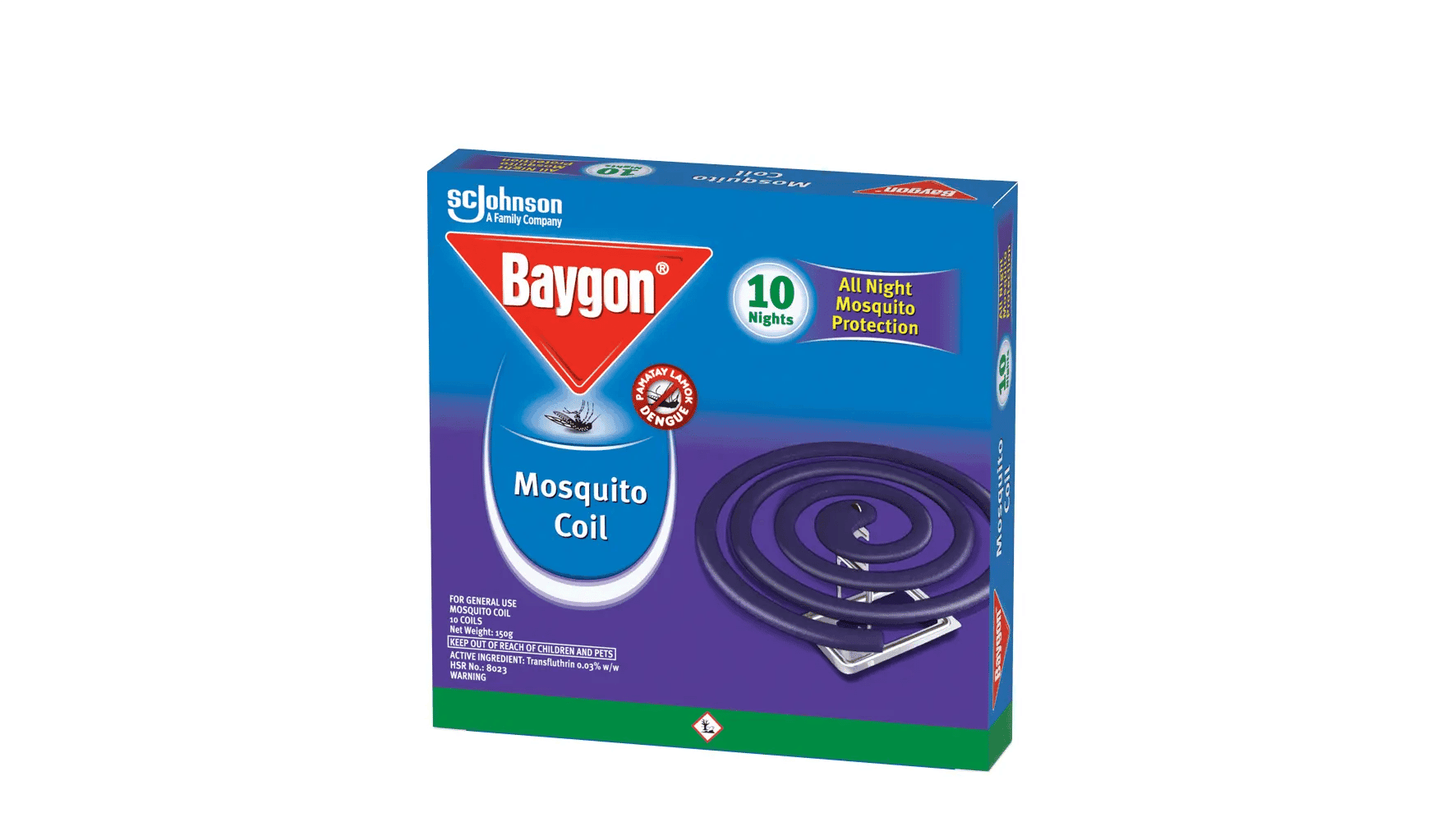Open-Flame-Hazard: (687, 419, 993, 702)
